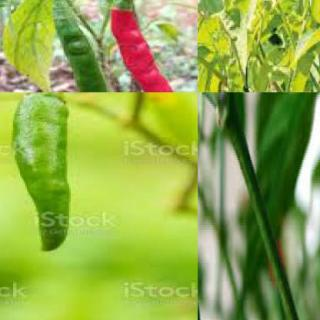green_chilli: (6, 92, 77, 254), (37, 0, 111, 92)
